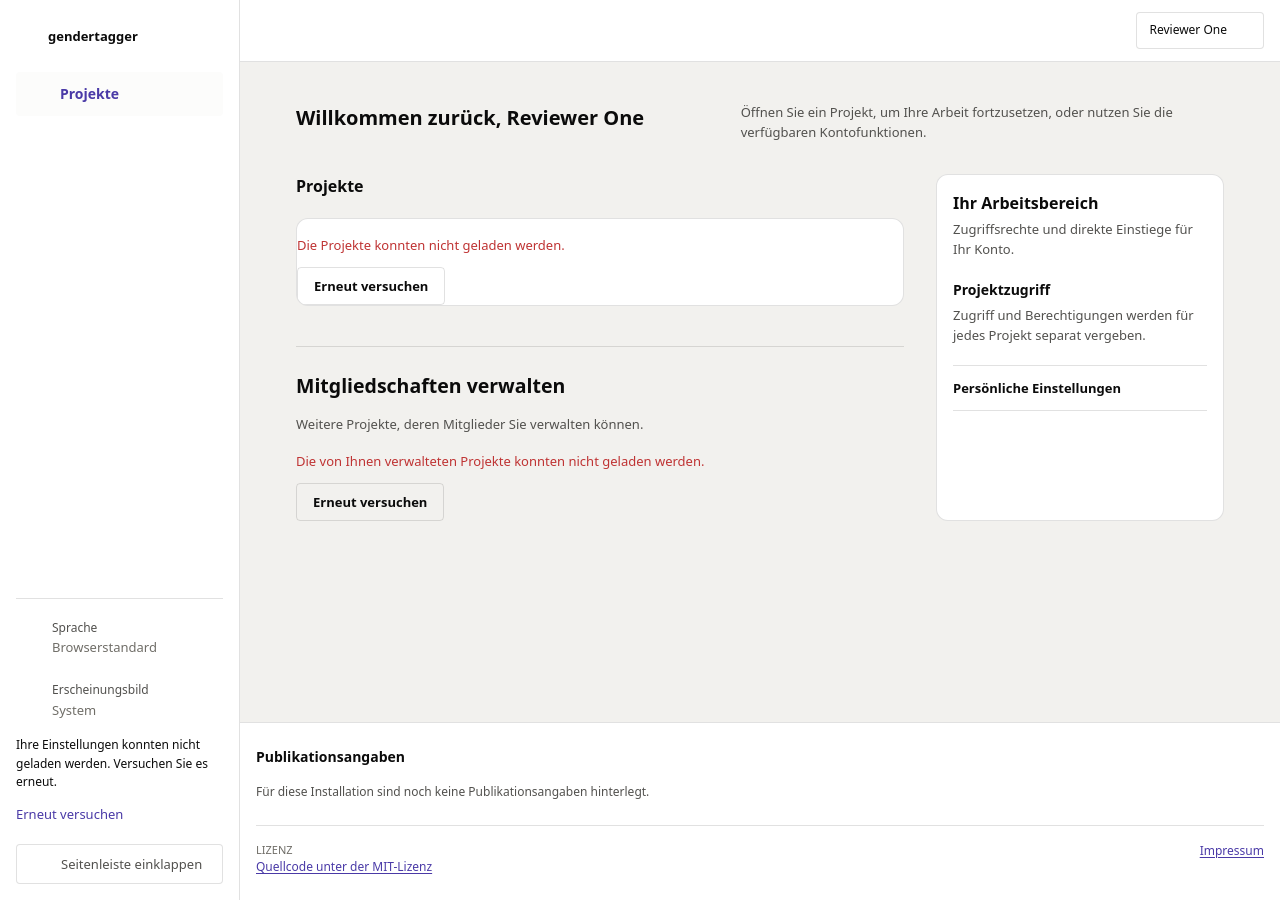
Test: AppHeader in de › signs out and returns to a signed-out header
The image size is (1280, 900).
Click the button with class "account-menu-button" at [1200, 30], box [1136,12,1264,49]
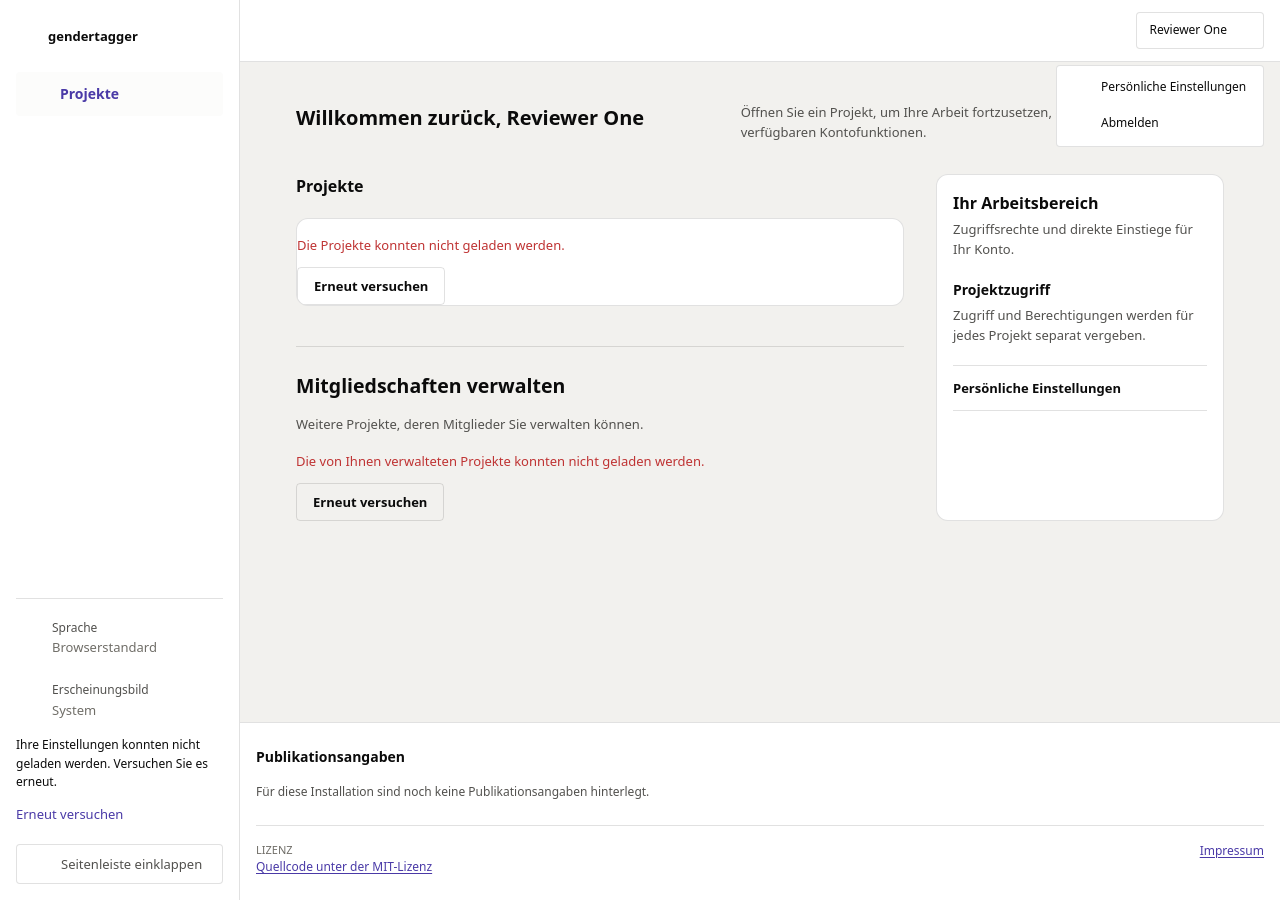
Click the menu item "Abmelden" at [1160, 124], box [1061,106,1259,142]
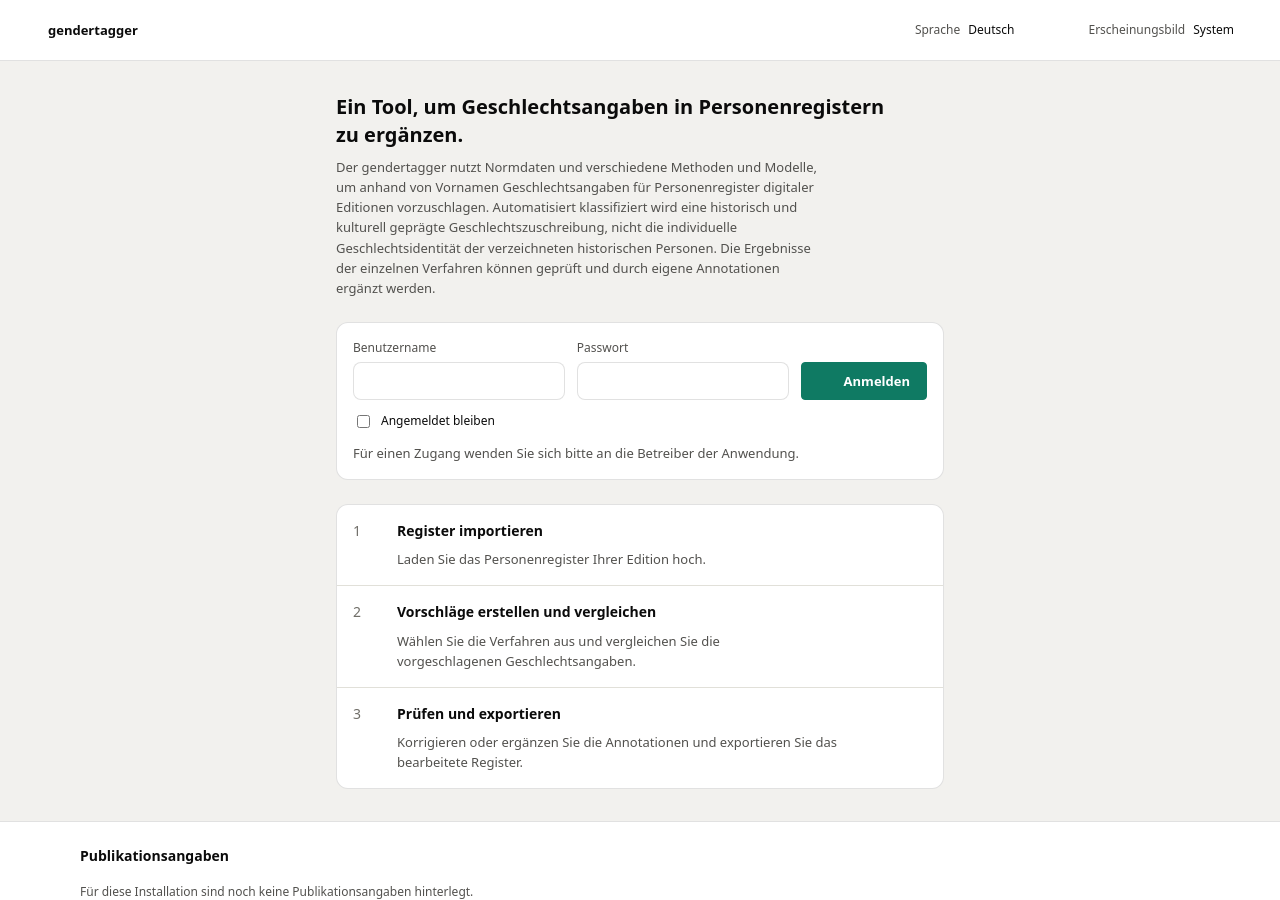
Expected: the link with class "app-header-brand" reads "gendertagger", [48,21,138,39]
Expected: the submit button reads "Anmelden", [801,362,927,400]
